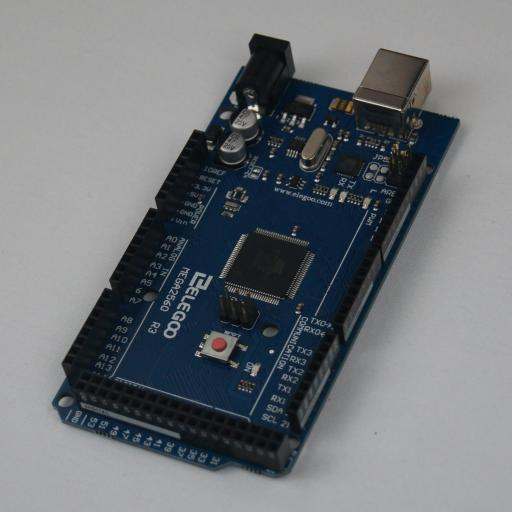Arduino Mega 2560 -Blue-: (52, 34, 460, 478)
